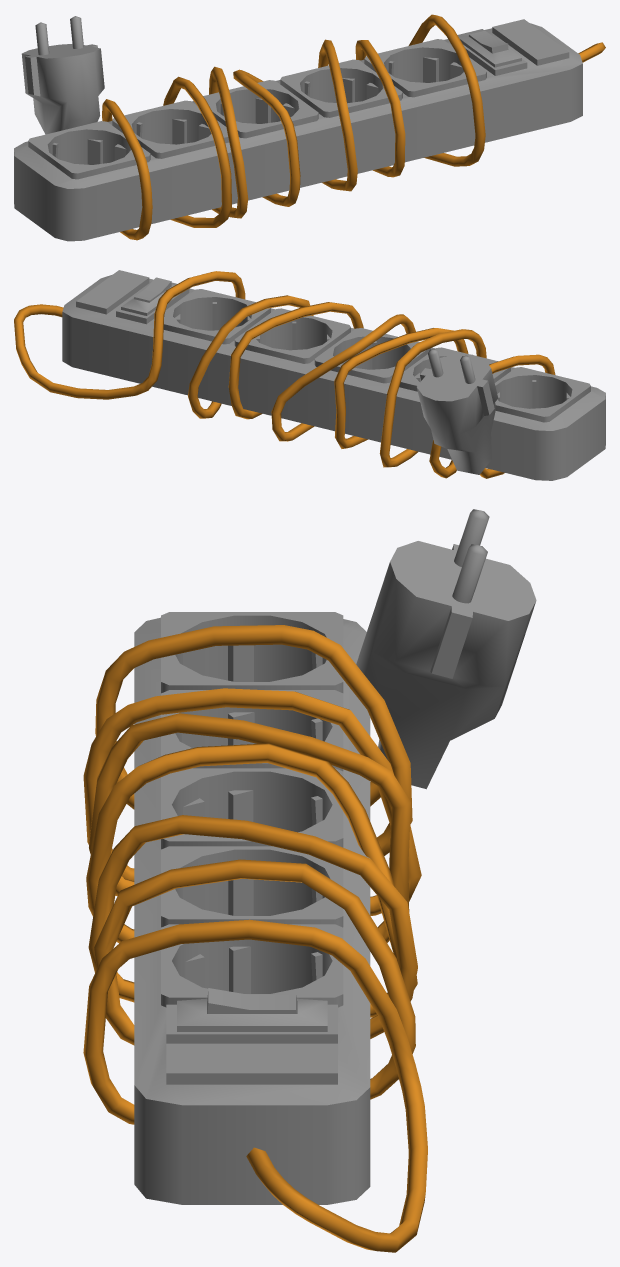
Rendered from SM_NetWorkFilter_01_E.FBX.
3 renders of one model, top to bottom at view 1: azimuth 30°, elevation 25°; view 2: azimuth 150°, elevation 25°; view 3: azimuth 270°, elevation 25°, orthographic. The views are drawn at different scales.
Parts seen in each view (by area): view 1: SM_NetWorkFilter_01_E; view 2: SM_NetWorkFilter_01_E; view 3: SM_NetWorkFilter_01_E.
Part boxes in pixels (box(x1,y1,x2,y2)): SM_NetWorkFilter_01_E: box(14, 14, 605, 241); SM_NetWorkFilter_01_E: box(14, 270, 605, 480); SM_NetWorkFilter_01_E: box(83, 509, 536, 1252).
Size of what is drawn, in the model's own units: 45.81 by 12.6 by 16.17.
